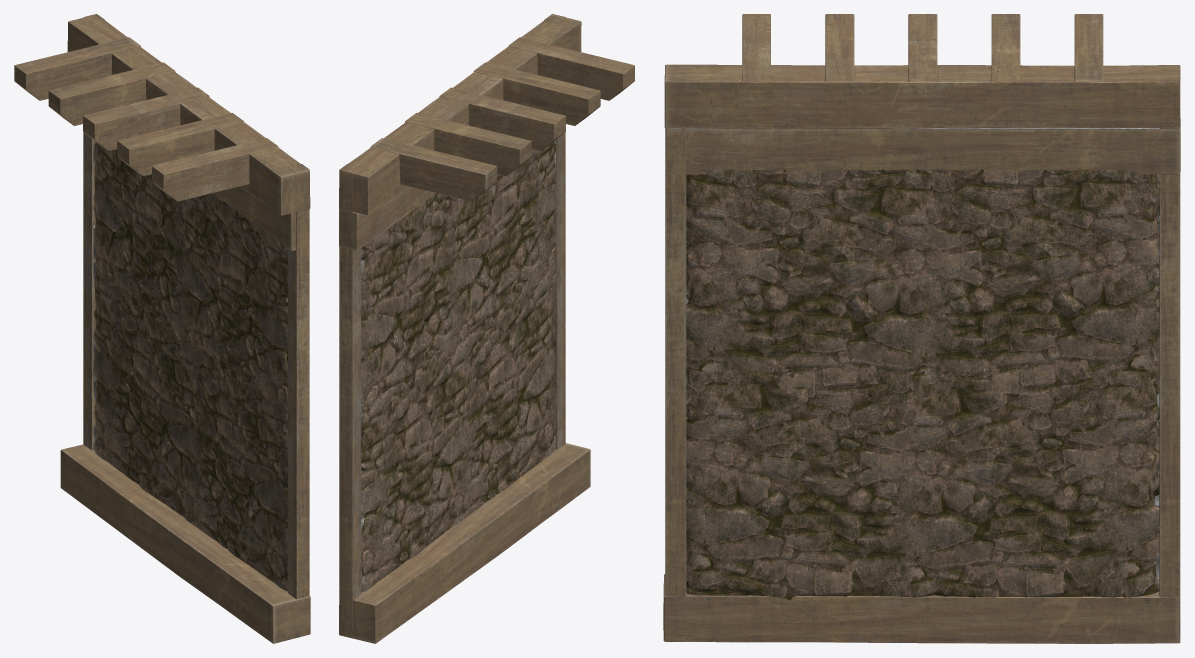
The model's file is SM_Wall-Stone-A3.fbx.
3 renders of one model, left to right at view 1: azimuth 30°, elevation 25°; view 2: azimuth 150°, elevation 25°; view 3: azimuth 270°, elevation 25°, orthographic. The views are drawn at different scales.
Parts seen in each view (by area): view 1: SM_Wall-Stone-A3_LOD0; view 2: SM_Wall-Stone-A3_LOD0; view 3: SM_Wall-Stone-A3_LOD0.
Boxes of the visible parts, x1=… form: SM_Wall-Stone-A3_LOD0: x1=14, y1=14, x2=310, y2=643; SM_Wall-Stone-A3_LOD0: x1=339, y1=14, x2=634, y2=643; SM_Wall-Stone-A3_LOD0: x1=663, y1=14, x2=1180, y2=643.
Size of the model in its own units: 79.55 by 251 by 301.
2 materials, 2 textured.
